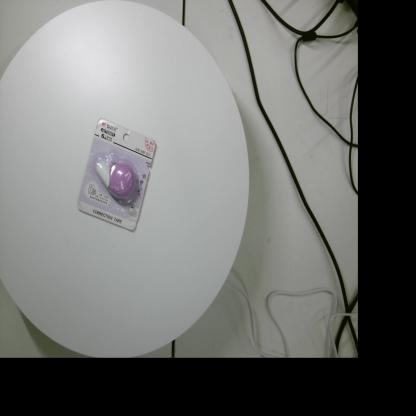Stationery: (77, 118, 156, 231)
